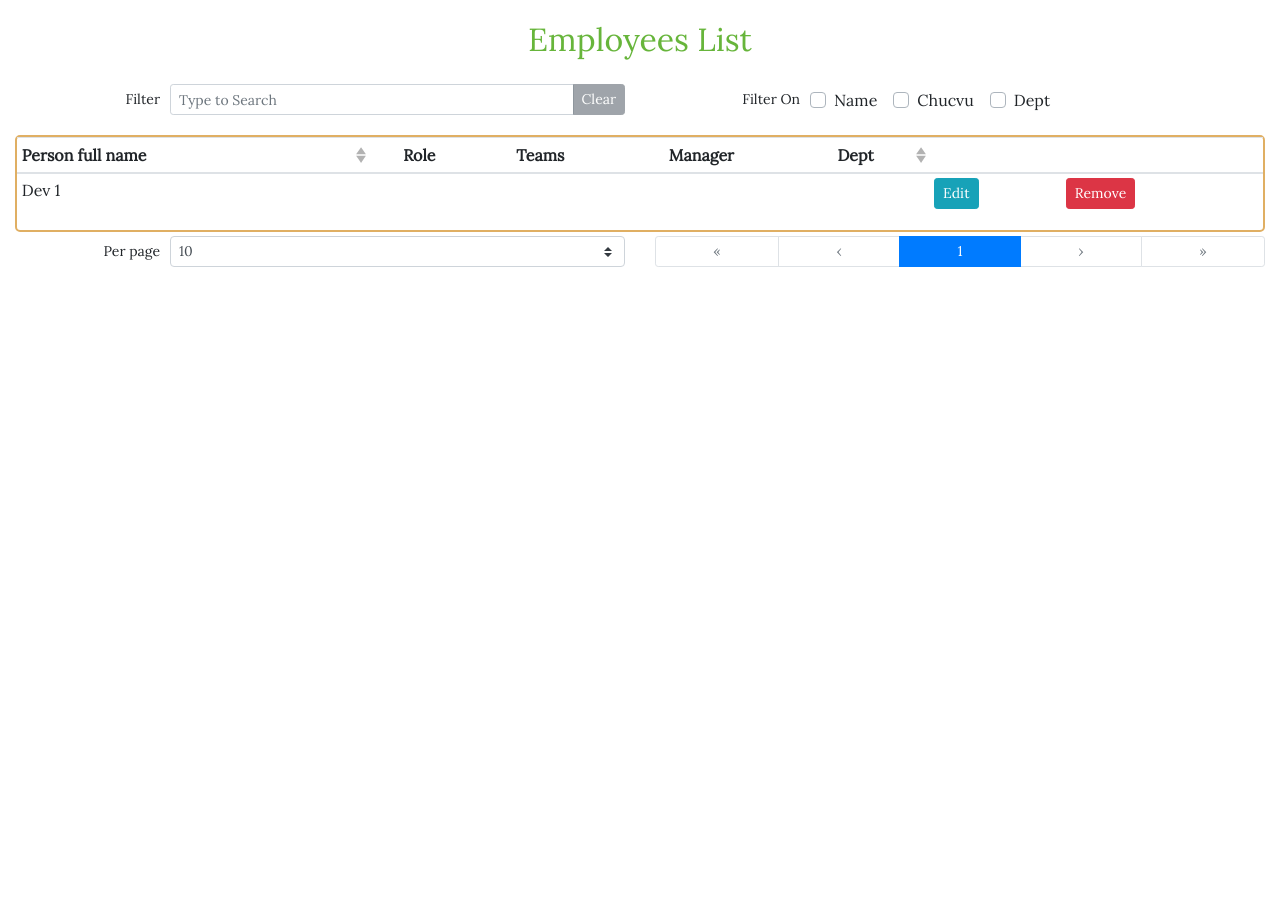
it: Employee unit tests: › Have data › Update name of employee
The width and height of the screenshot is (1280, 900).
Click the button with class "btn-info" at (956, 194), box [934, 178, 979, 209]
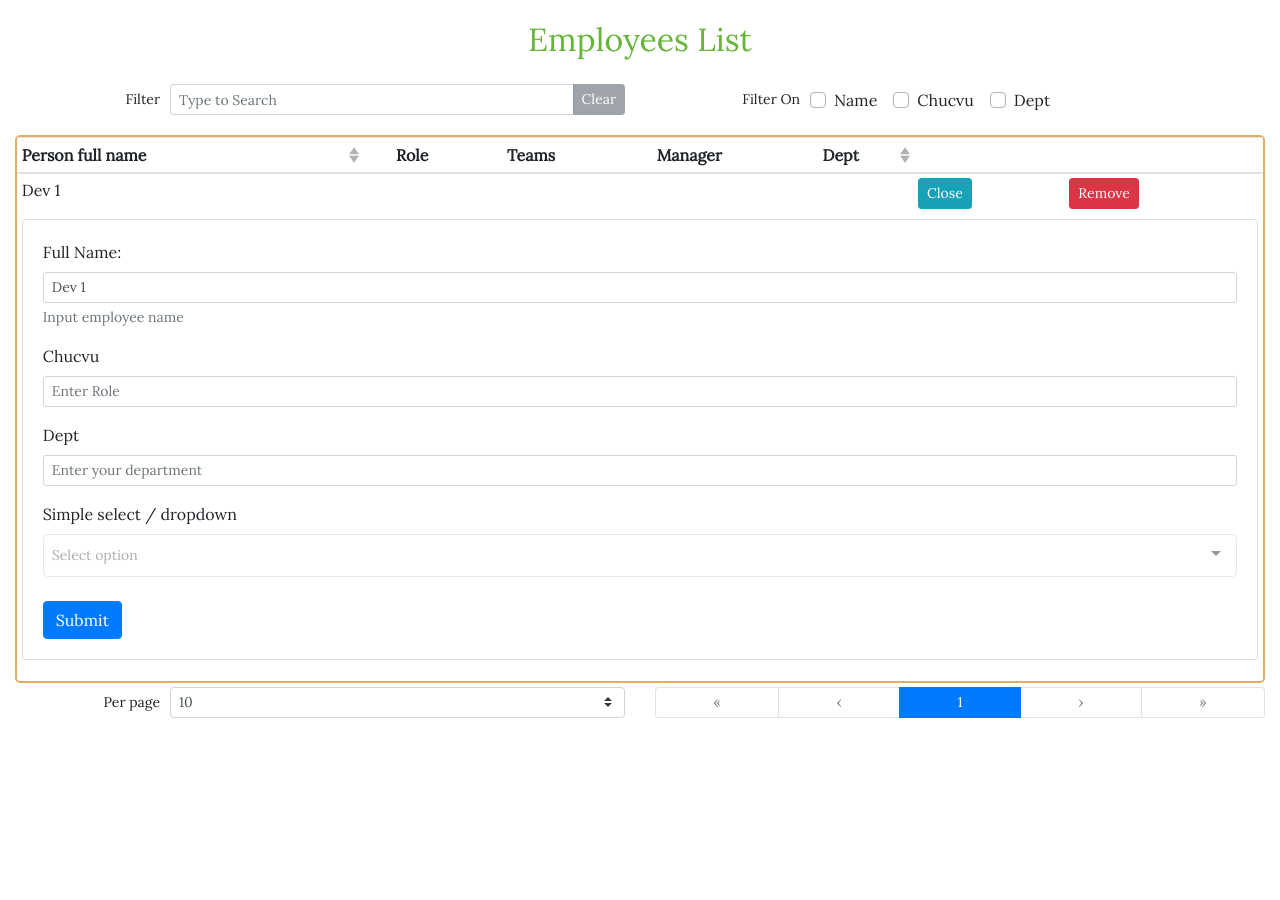
Replace the text in the field labelled "Full Name:" with "Dev 2" at (640, 288), box [43, 272, 1237, 303]
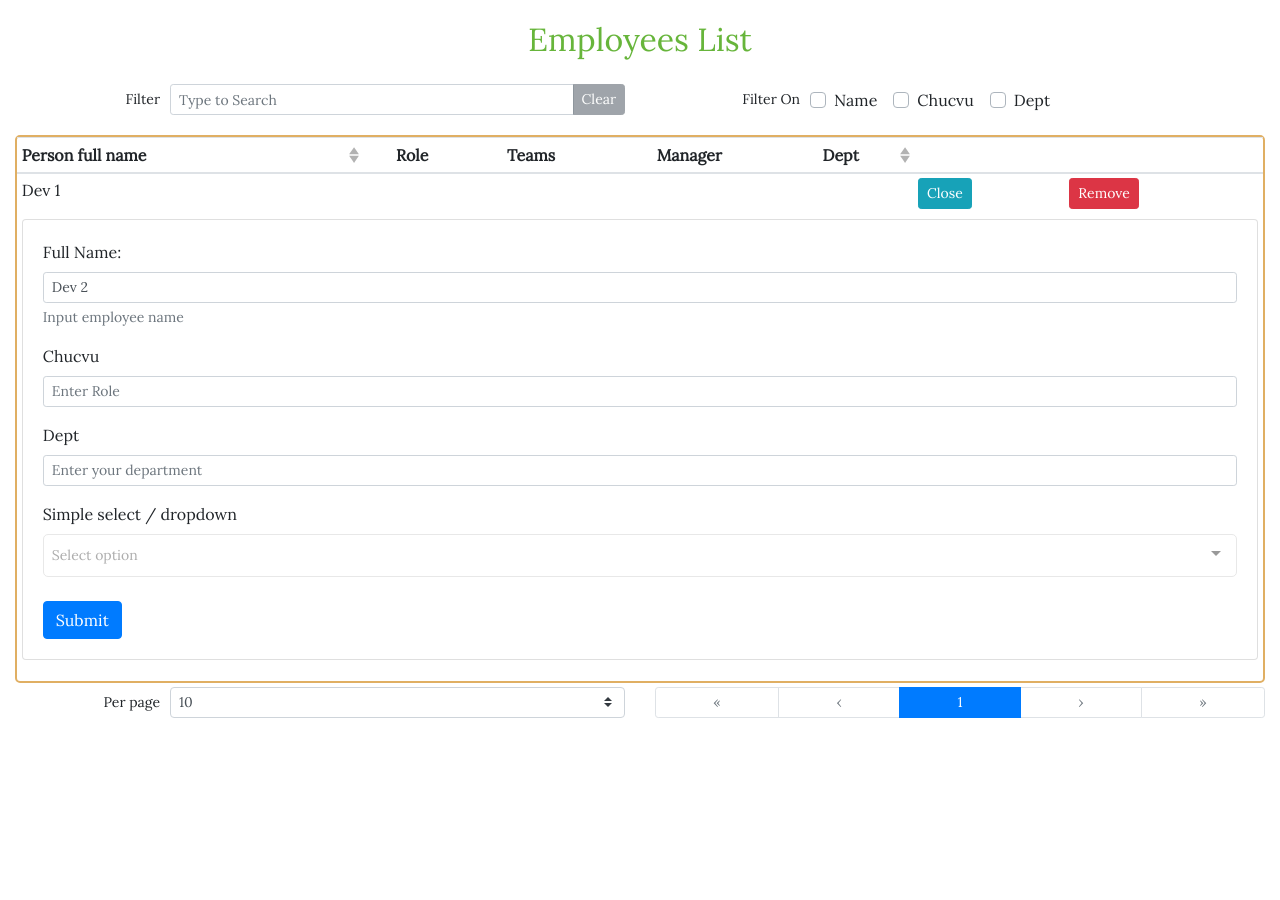
// Click submit button
Click the button "Submit" at (82, 620), box [43, 601, 122, 639]
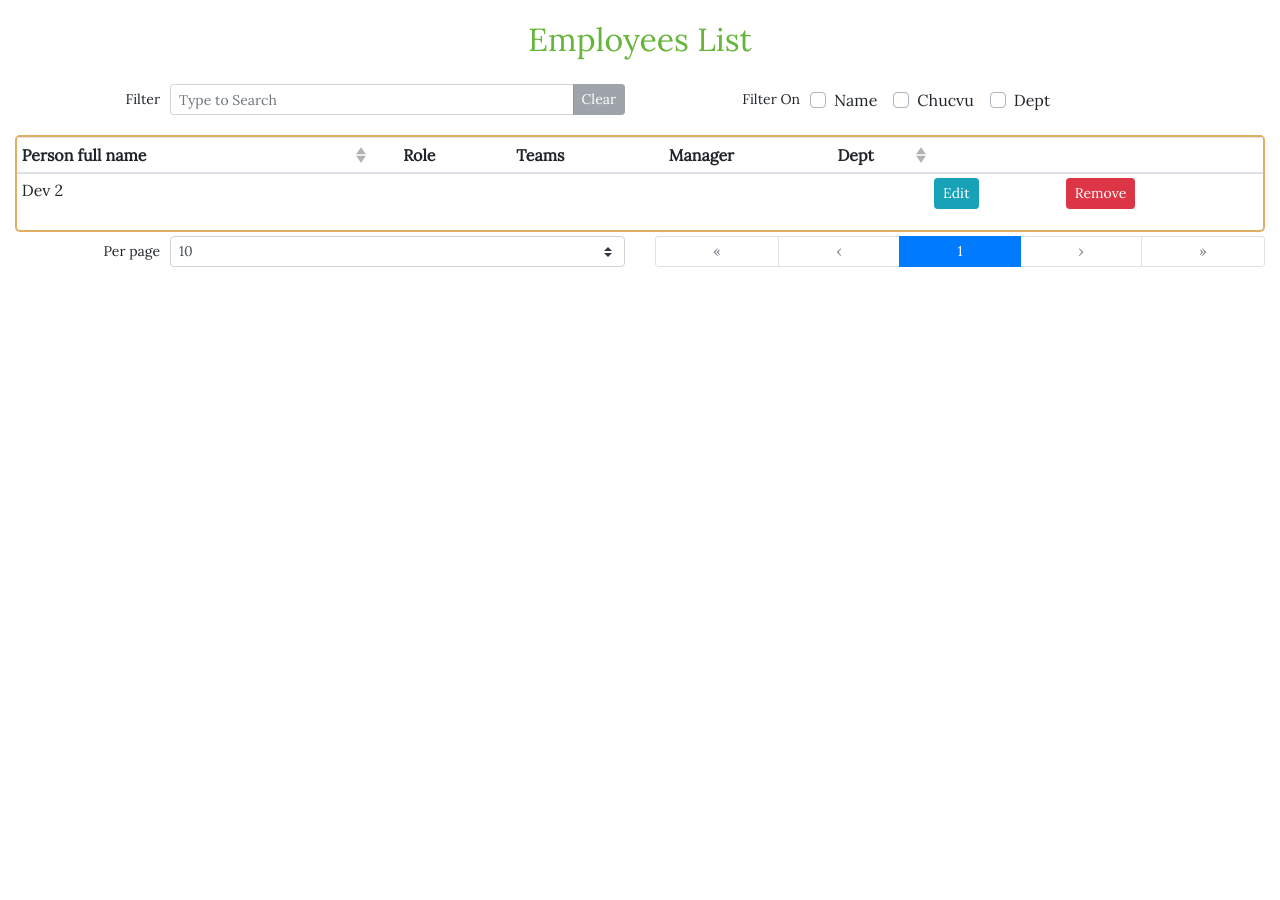
Now the table shows "Dev 2", box [22, 180, 63, 200]
